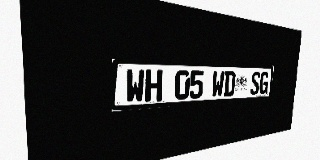0: (174, 70, 190, 100)
5: (189, 70, 204, 99)
D: (223, 71, 236, 97)
G: (259, 72, 269, 94)
H: (145, 70, 163, 102)
S: (250, 72, 261, 95)
W: (126, 69, 145, 103), (211, 71, 225, 98)
